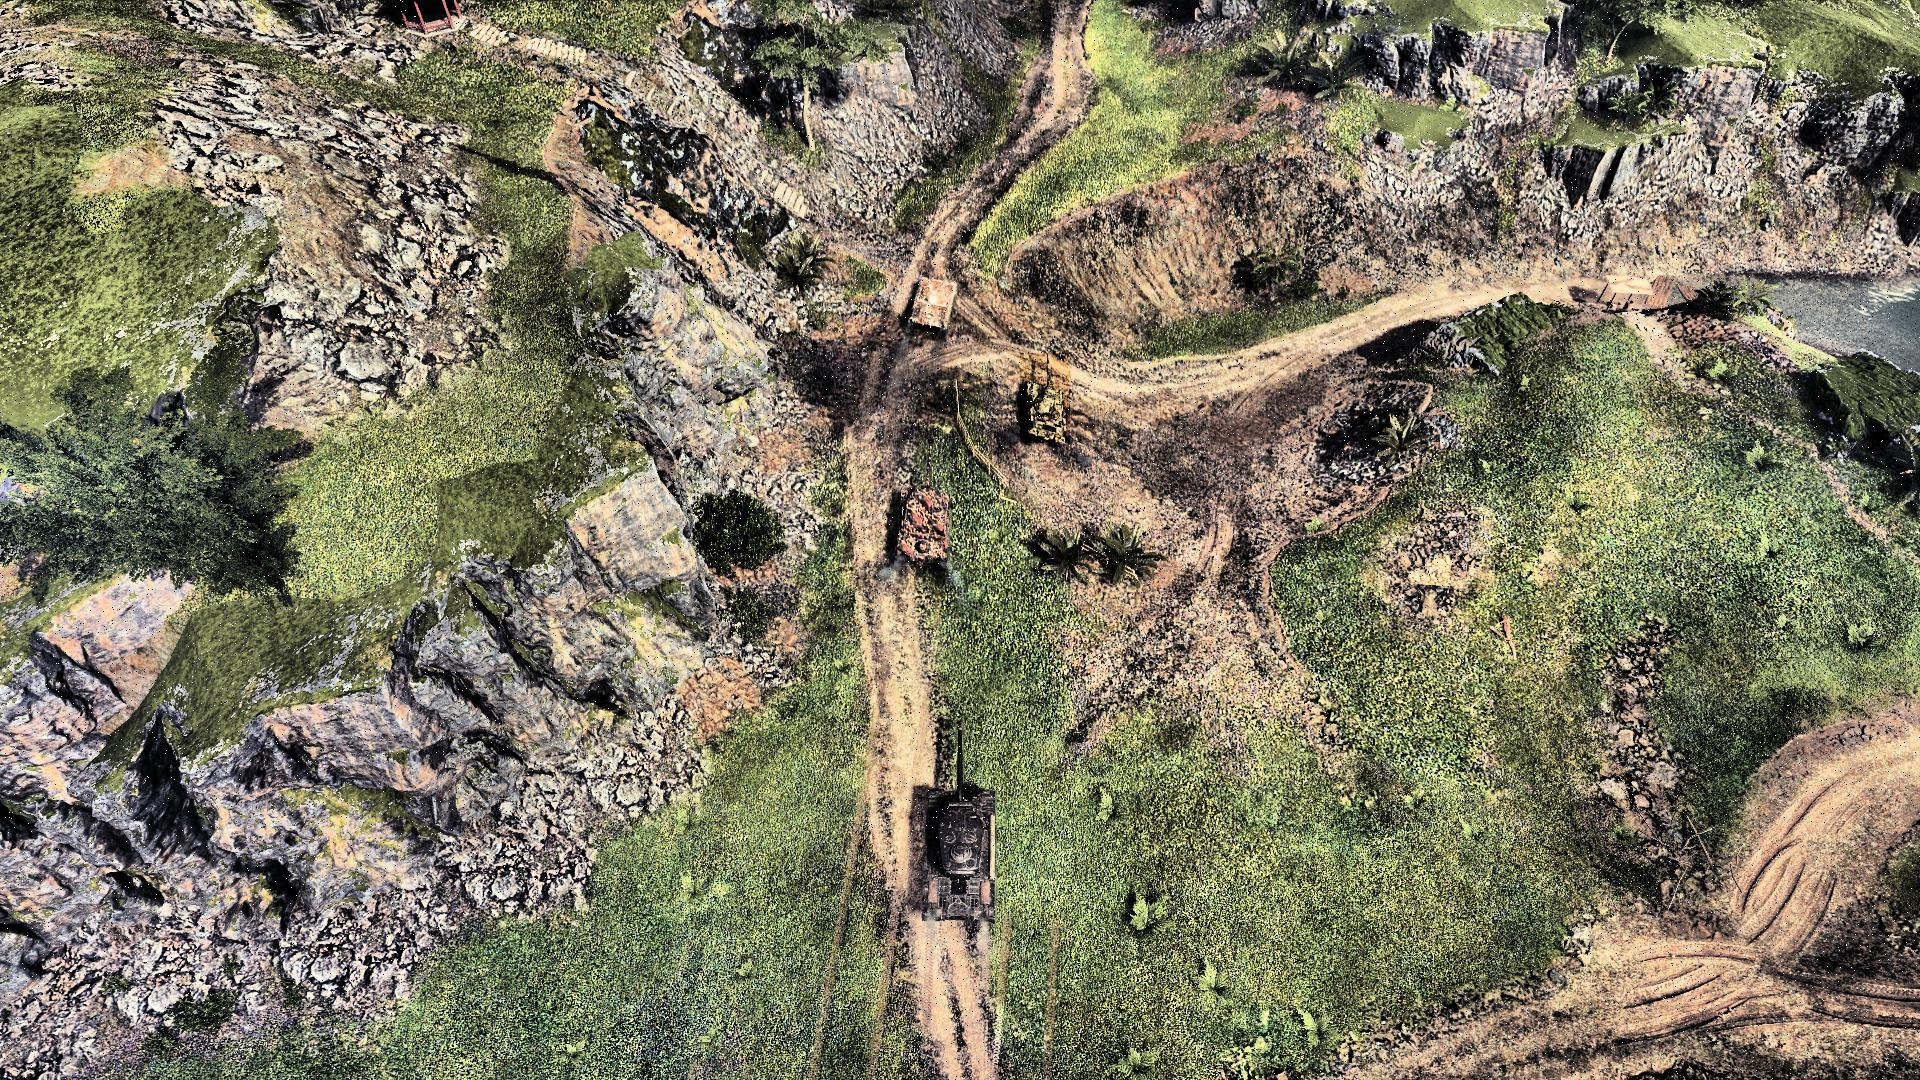military-vehicle: (922, 717, 993, 924), (895, 440, 952, 567), (1021, 353, 1069, 443)
